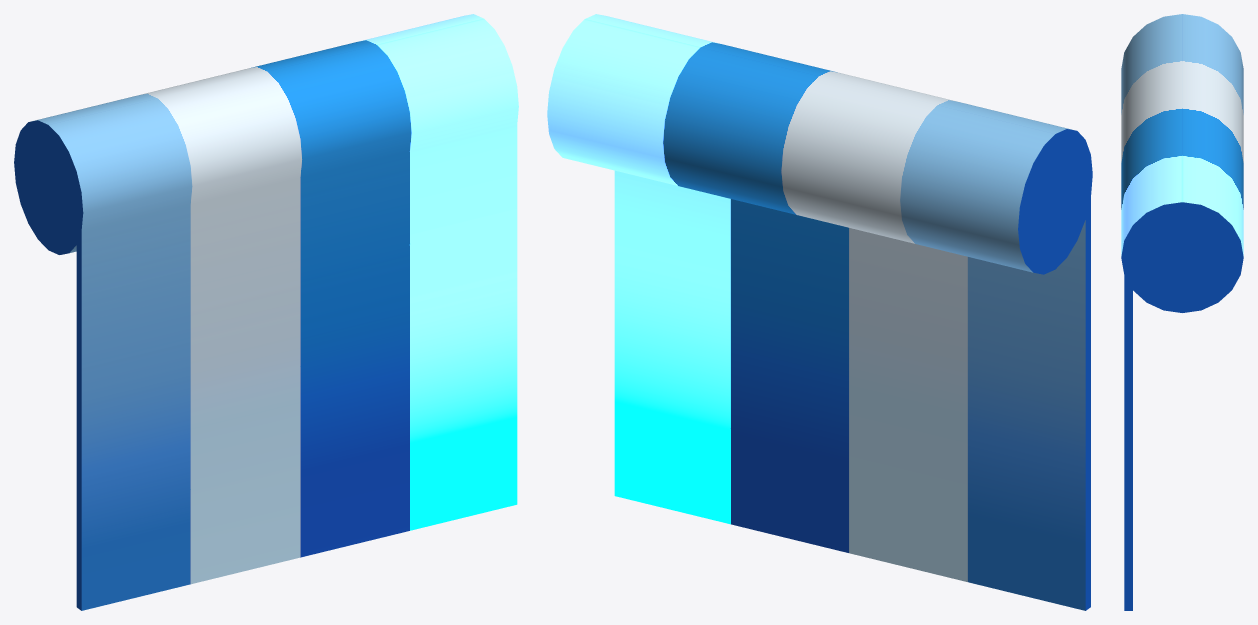
File: ColorSet_02.fbx
3 renders of one model, left to right at view 1: azimuth 30°, elevation 25°; view 2: azimuth 150°, elevation 25°; view 3: azimuth 270°, elevation 25°, orthographic. The views are drawn at different scales.
Visible parts, largest first — view 1: ColorSet_02; view 2: ColorSet_02; view 3: ColorSet_02.
Boxes of the visible parts, box(x1,y1,x2,y2) form: ColorSet_02: box(14, 14, 518, 610); ColorSet_02: box(547, 14, 1092, 610); ColorSet_02: box(1121, 14, 1243, 610).
Size of the model in its own units: 66.97 by 18.42 by 67.84.
